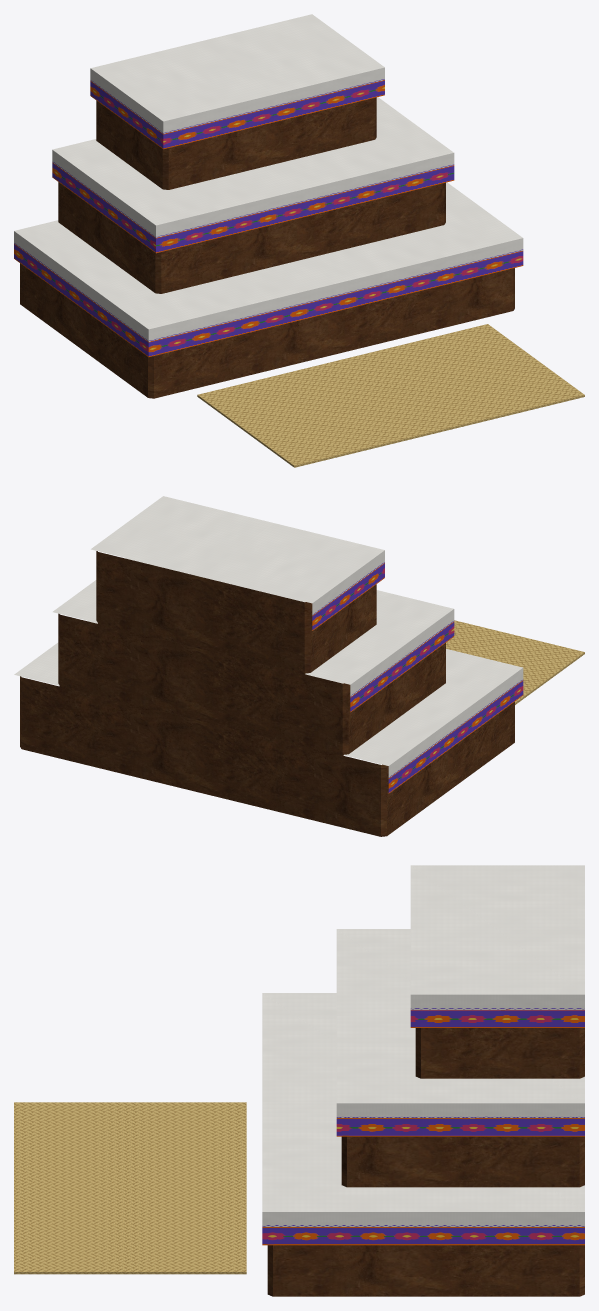
File: altar_muertos.gltf
The picture shows the model from 3 angles, top to bottom: view 1: azimuth 30°, elevation 25°; view 2: azimuth 150°, elevation 25°; view 3: azimuth 270°, elevation 25°; orthographic projection. The views are drawn at different scales.
Visible parts, largest first — view 1: nivel_1, nivel_2, nivel_3, petate; view 2: nivel_1, nivel_3, nivel_2, petate; view 3: nivel_1, petate, nivel_2, nivel_3.
Boxes of the visible parts, x1,y1,x2,y2 form: nivel_1: [14, 182, 523, 398]; nivel_2: [52, 97, 454, 293]; nivel_3: [90, 14, 384, 189]; petate: [197, 324, 584, 467]; nivel_1: [14, 621, 523, 836]; nivel_3: [91, 496, 384, 674]; nivel_2: [53, 558, 454, 755]; petate: [446, 620, 584, 704]; nivel_1: [262, 993, 584, 1296]; petate: [14, 1102, 246, 1274]; nivel_2: [336, 929, 584, 1187]; nivel_3: [410, 865, 584, 1078].
Size of the model in its own units: 2.45 by 1.35 by 2.7.
Materials: 3 (3 with a texture image).
